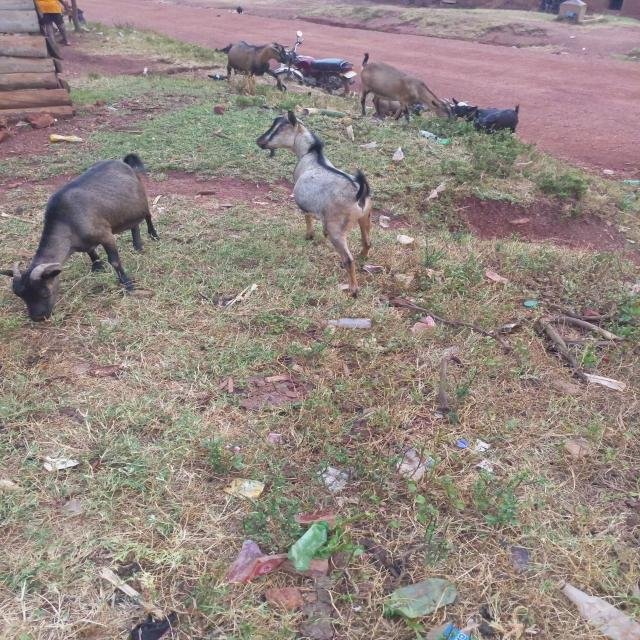goat: (0, 142, 191, 352)
